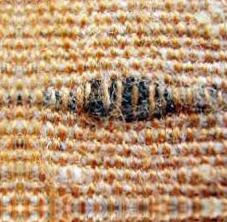slub: (4, 74, 218, 124)
